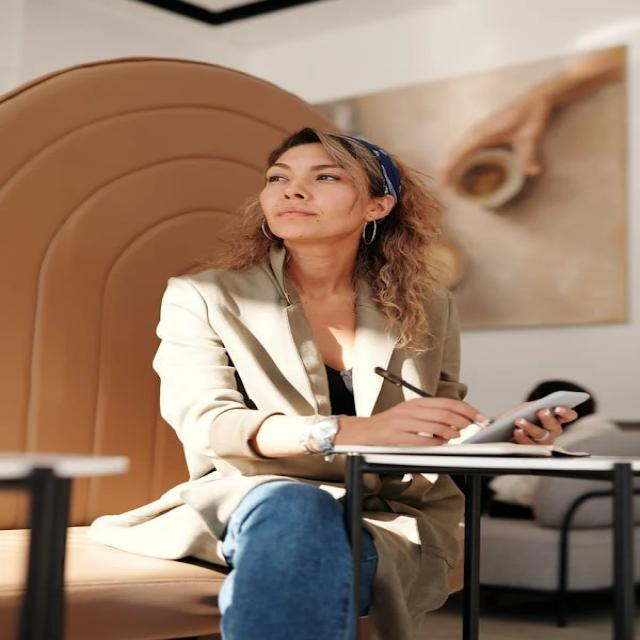Real human 2: (133, 118, 587, 640)
